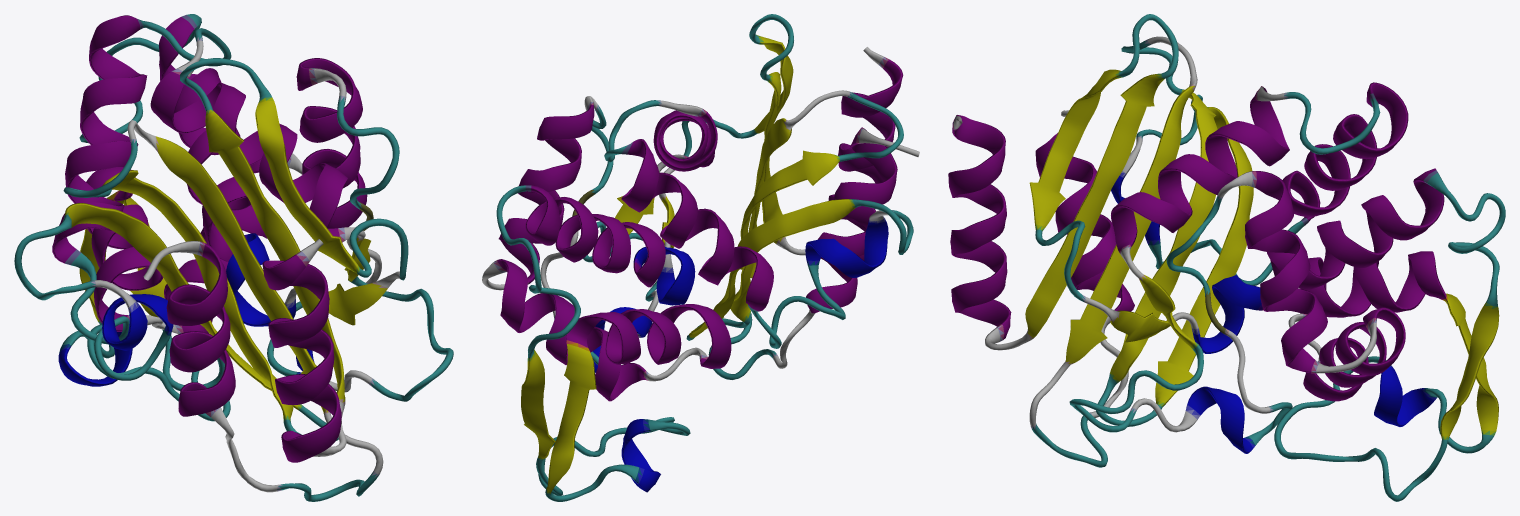
File: animate.0014.obj
3 renders of one model, left to right at view 1: azimuth 30°, elevation 25°; view 2: azimuth 150°, elevation 25°; view 3: azimuth 270°, elevation 25°, orthographic. The views are drawn at different scales.
Parts seen in each view (by area): view 1: vmd_mol0_rep0; view 2: vmd_mol0_rep0; view 3: vmd_mol0_rep0.
Boxes of the visible parts, box(x1,y1,x2,y2) form: vmd_mol0_rep0: box(14, 14, 453, 501); vmd_mol0_rep0: box(482, 14, 919, 501); vmd_mol0_rep0: box(948, 14, 1505, 501).
Size of the model in its own units: 1.02 by 1.12 by 1.32.
